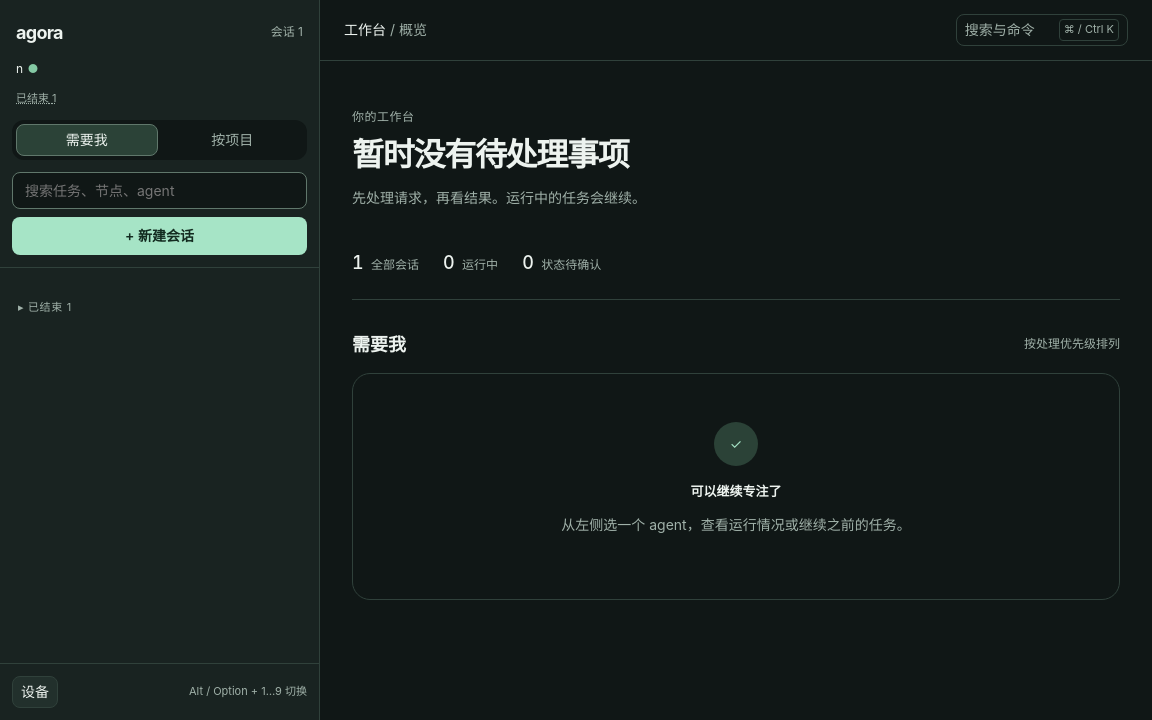
Workspace › a headless session is tagged, folds without being seen, and opens without a terminal (agora-5gg.20)
The image size is (1152, 720).
// 展开折叠区看它的标签，再选中它。
Click the button with test id "section-finished" at (45, 308), box [18,292,72,324]
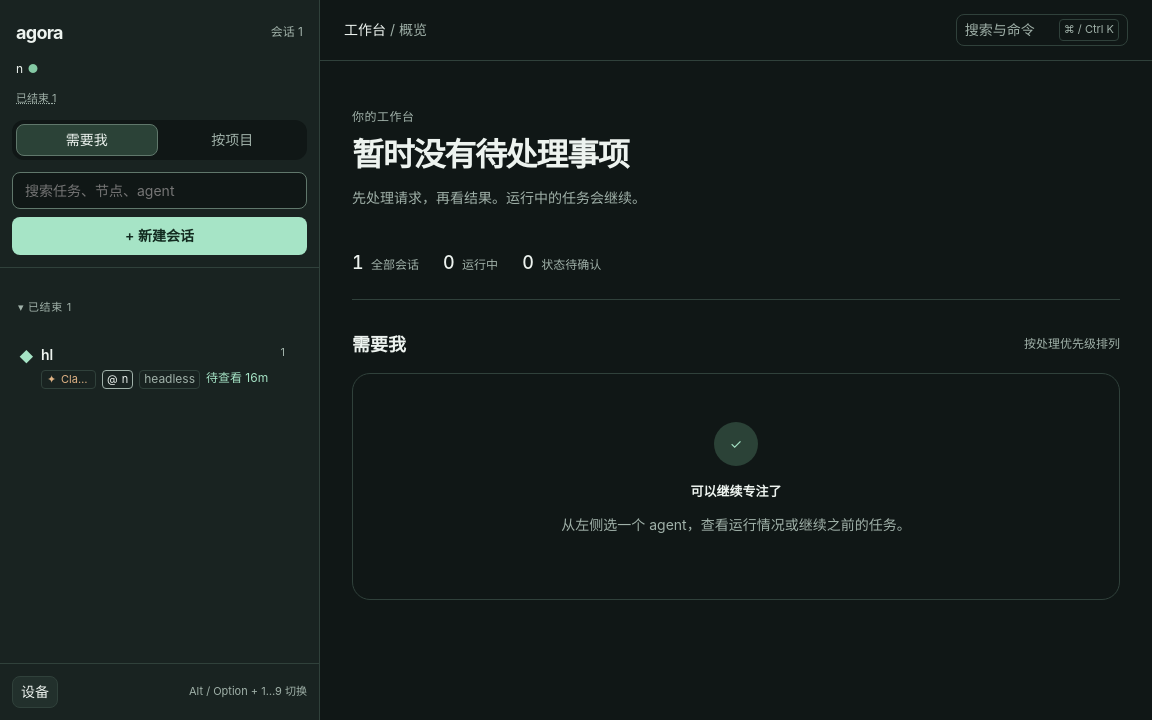
Check: the text "headless" is shown, box [139,370,200,389]
Click the button with test id "row-n:hl" at (69, 380), box [10,332,294,402]
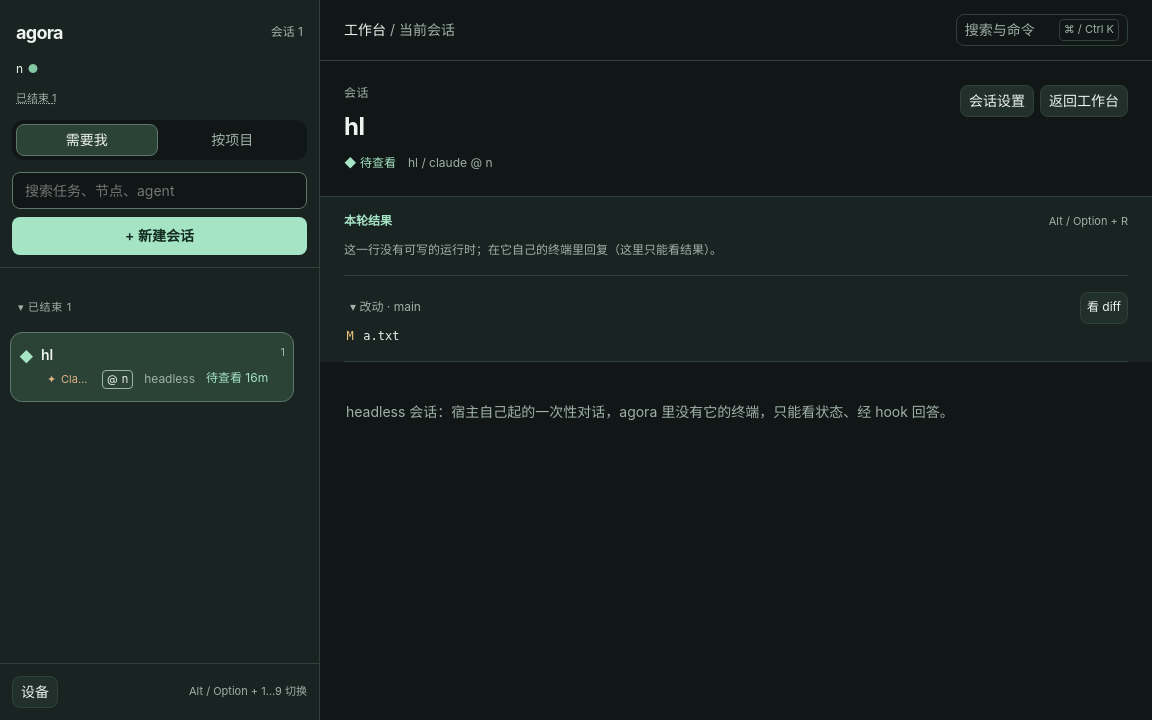
Check: the text with test id "no-terminal" shows "headless", box [346,403,954,420]
